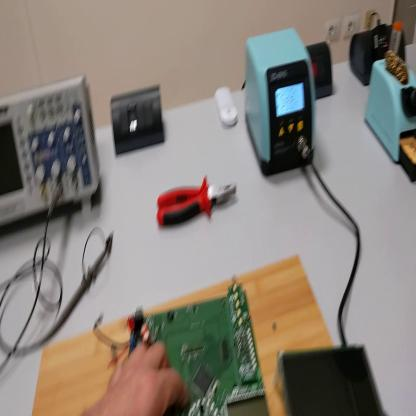hand: (101, 338, 187, 414)
low voltage board: (97, 272, 275, 416)
oscilloscope: (1, 74, 98, 232)
oscilloscope probe tip: (43, 251, 107, 345)
pliers: (158, 176, 242, 232)
socket: (352, 13, 408, 85), (308, 41, 337, 101)
welder base: (366, 12, 416, 183)
welder station: (247, 19, 320, 180)
working area: (32, 254, 343, 416)
